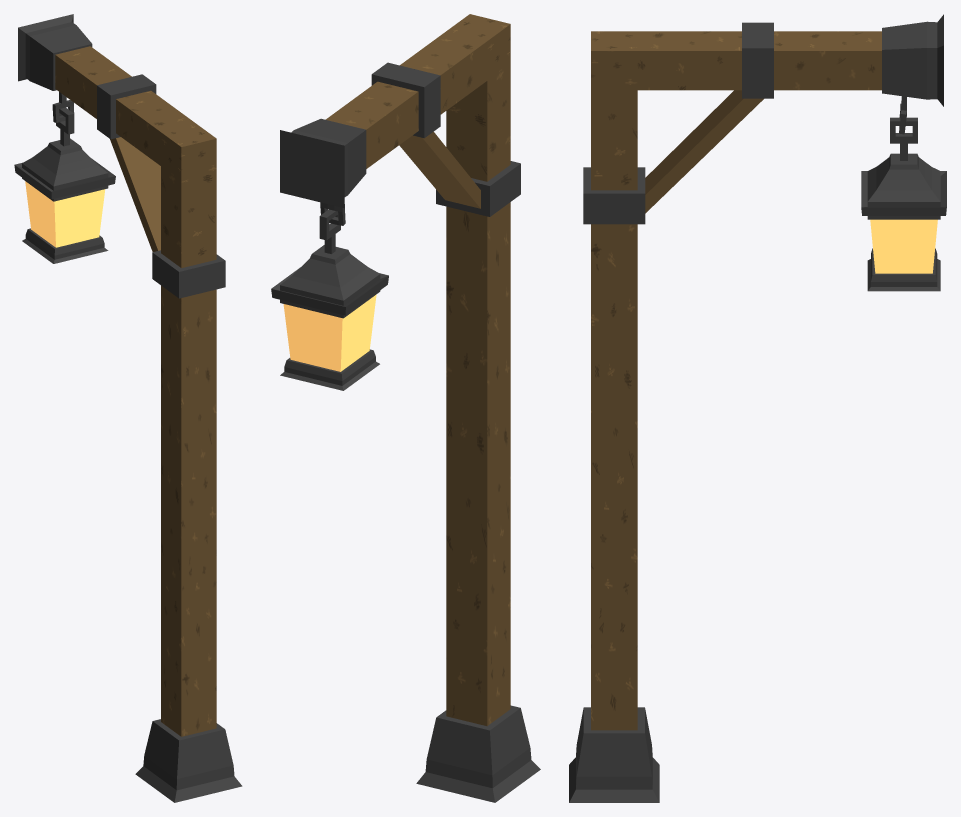
Rendered from lampadaire-modee-texture.fbx.
3 views of the same model, side by side, from view 1: azimuth 30°, elevation 25°; view 2: azimuth 150°, elevation 25°; view 3: azimuth 270°, elevation 25° (orthographic). The views are drawn at different scales.
Parts seen in each view (by area): view 1: Cube.001; view 2: Cube.001; view 3: Cube.001.
Part boxes in pixels (x1,y1,x2,y2): Cube.001: (14, 14, 242, 802); Cube.001: (271, 14, 540, 802); Cube.001: (569, 14, 946, 802).
Size of the model in its own units: 48.27 by 442 by 201.
3 materials, 1 textured.
